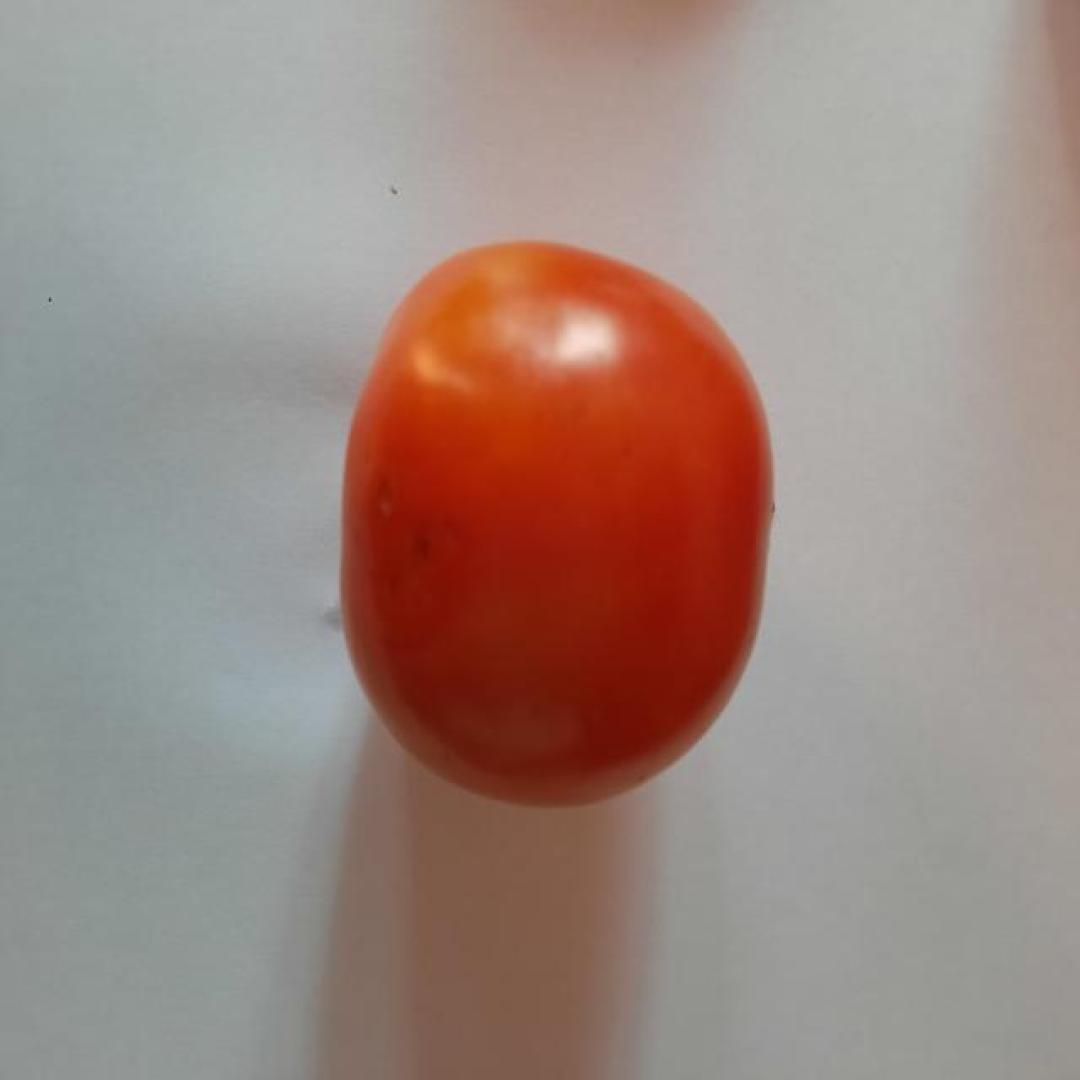matang: (338, 238, 776, 813)
